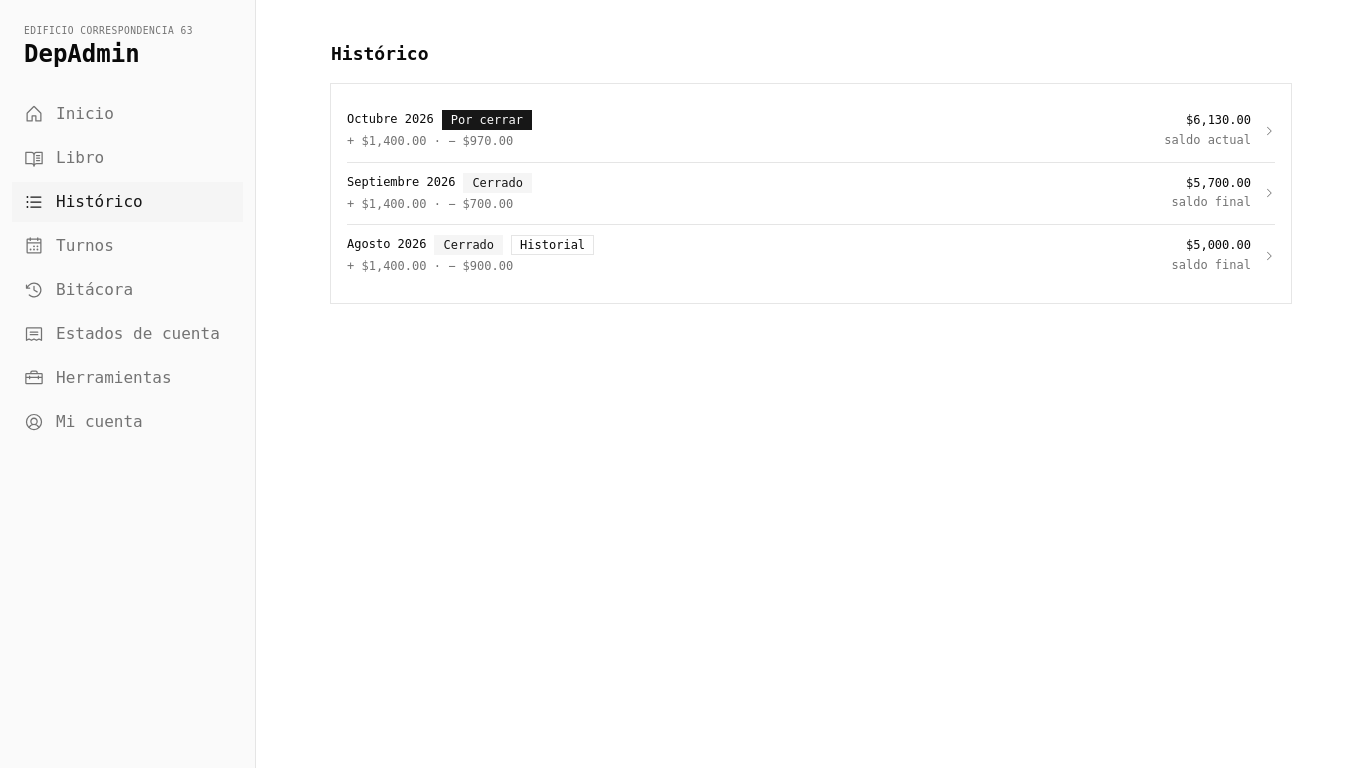
Test: HistoryPage › lists every month newest first, each with its balance, and opens its book
Click the link that starts with "septiembre 2026": (405, 182) left=347, top=162, right=1275, bottom=224
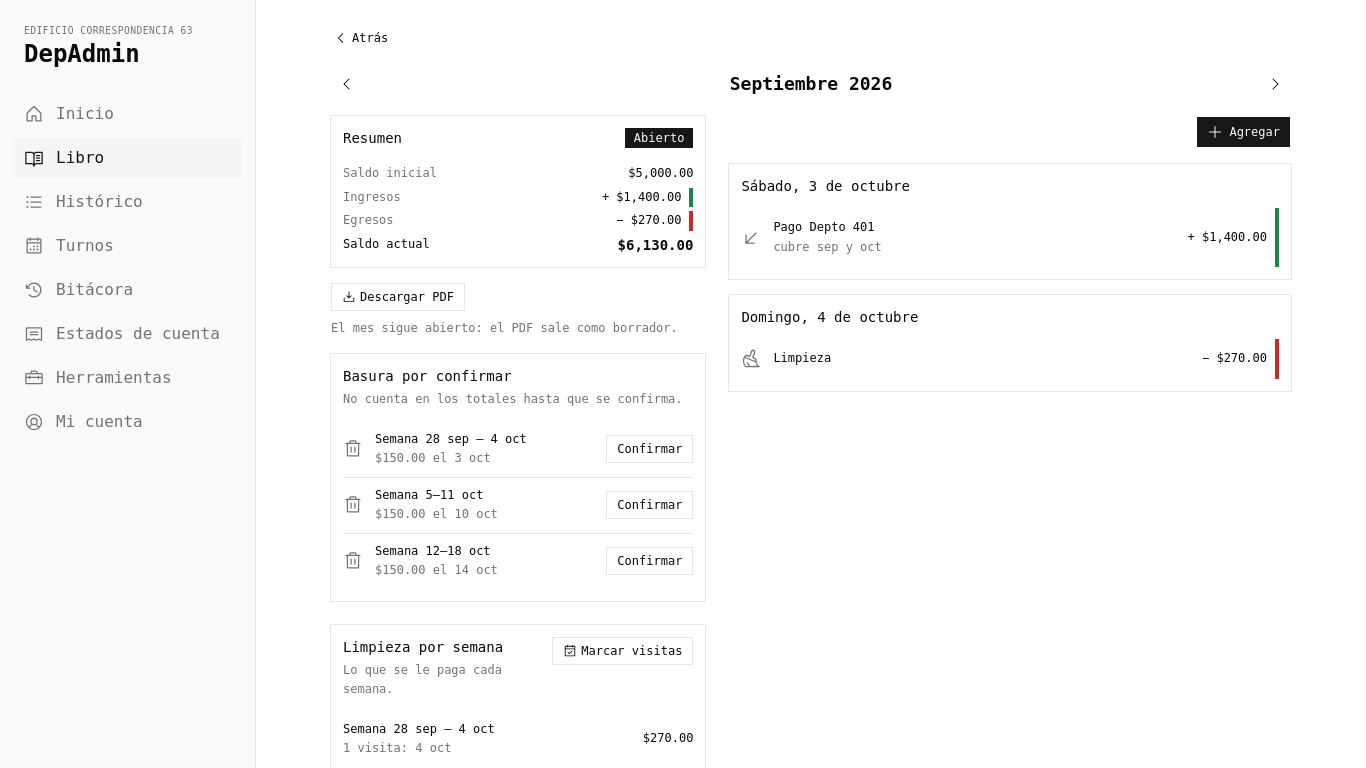
Expected: the heading "septiembre 2026" is shown, left=730, top=70, right=892, bottom=98
